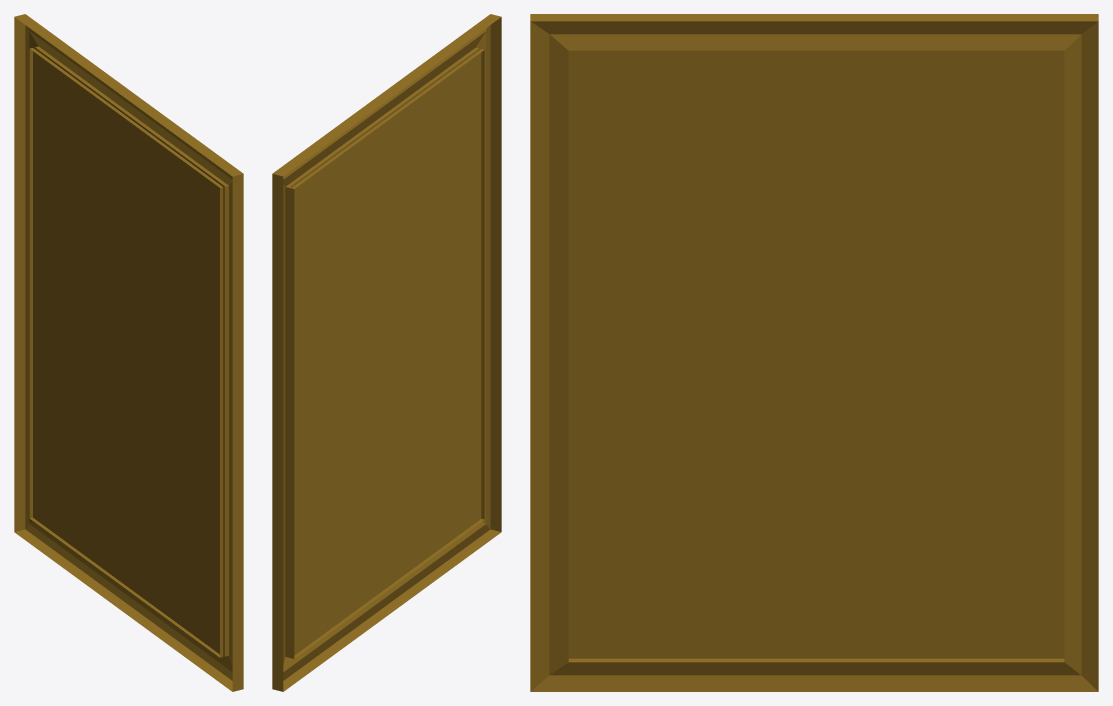
Rendered from bilderrahmen-klavier.fbx.
3 renders of one model, left to right at view 1: azimuth 30°, elevation 25°; view 2: azimuth 150°, elevation 25°; view 3: azimuth 270°, elevation 25°, orthographic. The views are drawn at different scales.
Visible parts, largest first — view 1: Cube.002; view 2: Cube.002; view 3: Cube.002.
Part boxes in pixels (x1,y1,x2,y2): Cube.002: (14, 14, 243, 691); Cube.002: (272, 14, 501, 691); Cube.002: (530, 14, 1098, 691).
Size of the model in its own units: 2.5 by 109 by 83.71.
